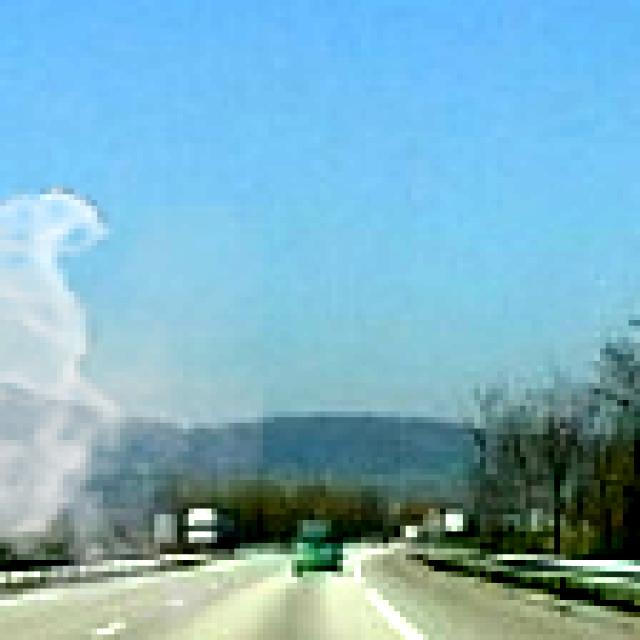smoke: (0, 177, 263, 640)
